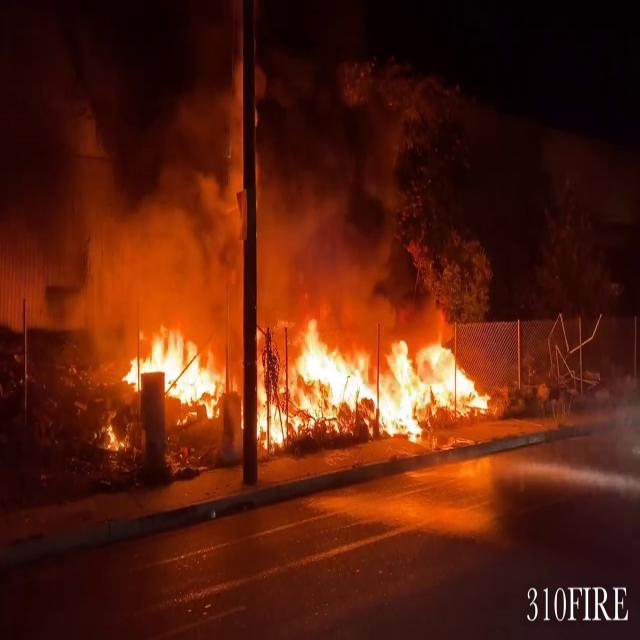Fire: (116, 308, 494, 446), (114, 321, 226, 411), (96, 416, 128, 456)
Smoke: (5, 14, 395, 311)
